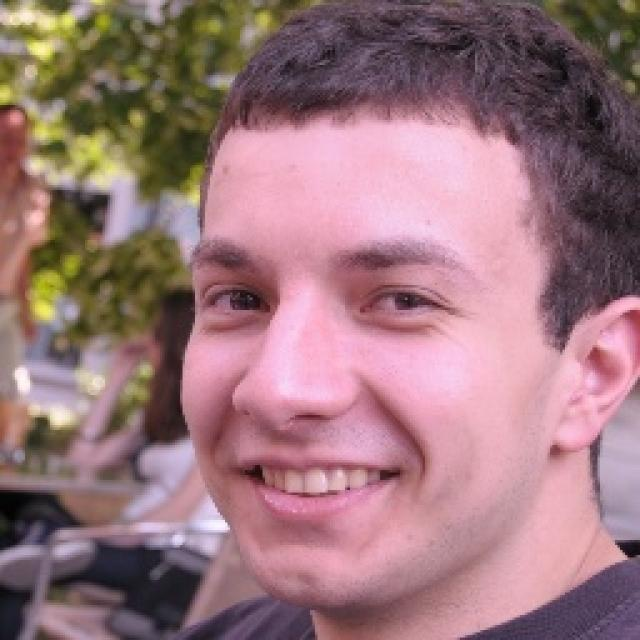earlobe: (552, 294, 639, 453)
